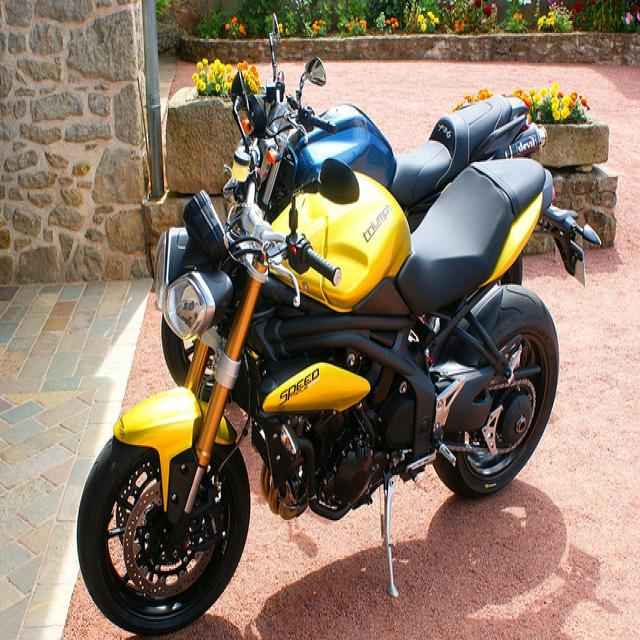motor: (77, 66, 605, 633), (251, 12, 549, 218)
